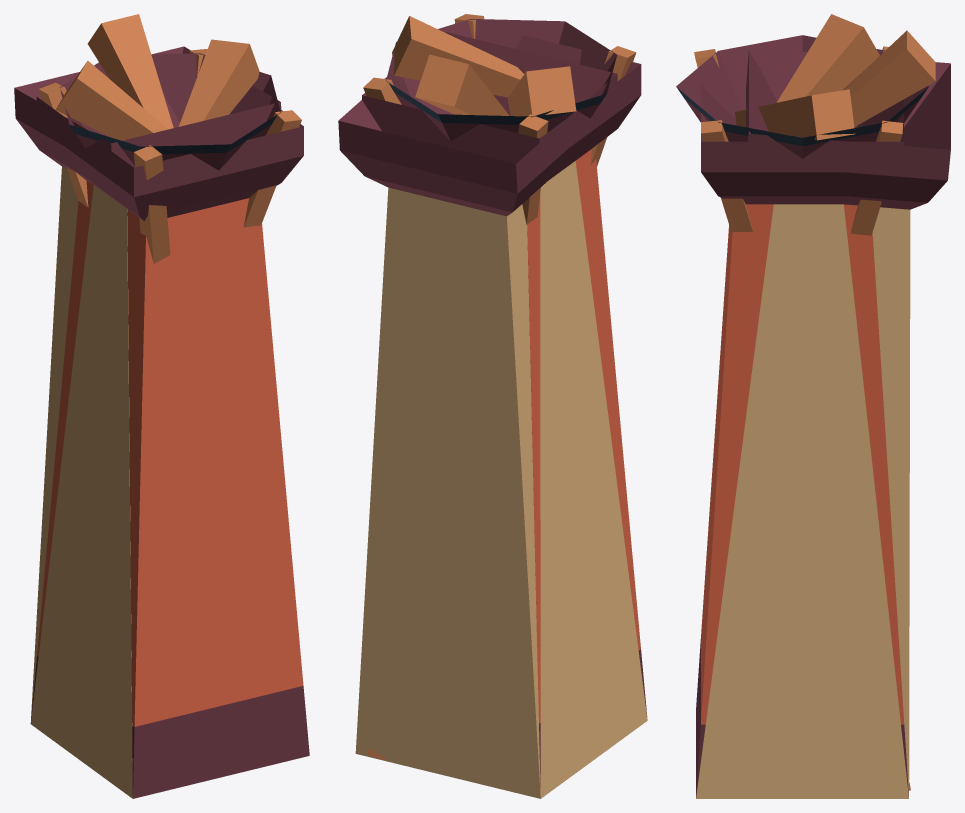
The model's file is TorchV2.fbx.
3 renders of one model, left to right at view 1: azimuth 30°, elevation 25°; view 2: azimuth 150°, elevation 25°; view 3: azimuth 270°, elevation 25°, orthographic. The views are drawn at different scales.
Visible parts, largest first — view 1: TorchAlt, TorchAltBent, WoodTorchAlt; view 2: TorchAltBent, TorchAlt, WoodTorchAlt; view 3: TorchAltBent, TorchAlt, WoodTorchAlt.
Boxes of the visible parts, x1,y1,x2,y2 form: TorchAlt: (31, 14, 309, 798); TorchAltBent: (14, 46, 281, 798); WoodTorchAlt: (38, 49, 301, 263); TorchAltBent: (338, 32, 647, 798); TorchAlt: (362, 16, 647, 787); WoodTorchAlt: (363, 14, 636, 760); TorchAltBent: (696, 48, 950, 798); TorchAlt: (696, 14, 935, 797); WoodTorchAlt: (676, 35, 928, 790).
Size of the model in its own units: 228 by 742 by 258.
